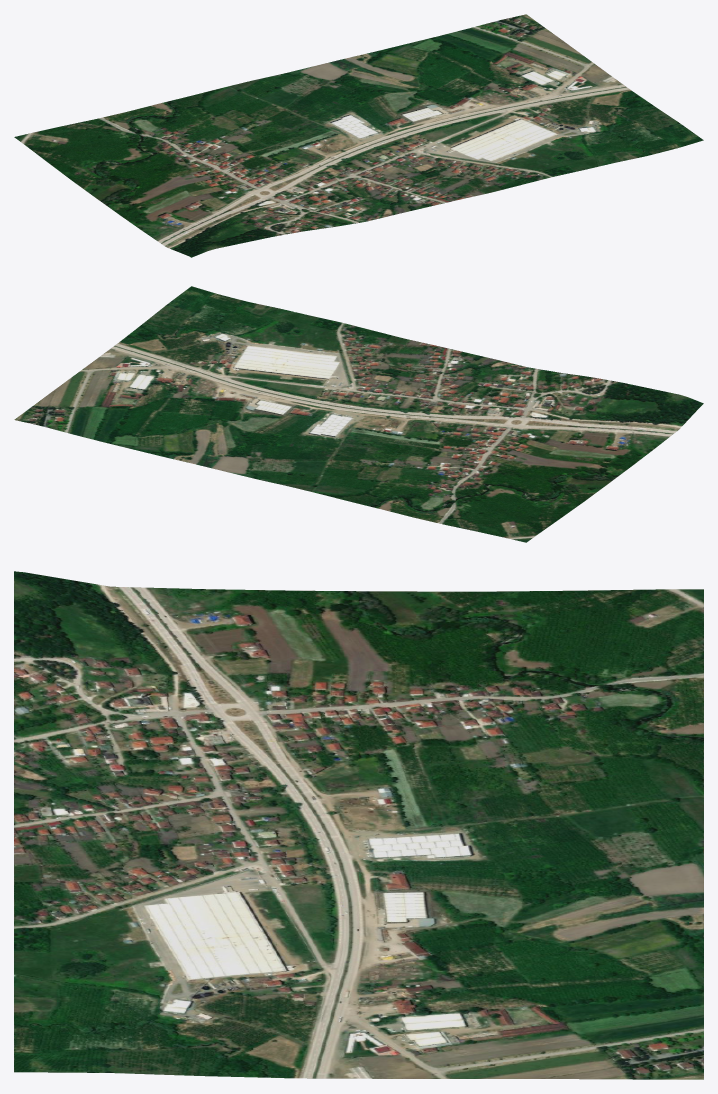
Rendered from soylu.dae.
3 renders of one model, top to bottom at view 1: azimuth 30°, elevation 25°; view 2: azimuth 150°, elevation 25°; view 3: azimuth 270°, elevation 25°, orthographic. The views are drawn at different scales.
Parts seen in each view (by area): view 1: EXPORT_BING_SAT_WM; view 2: EXPORT_BING_SAT_WM; view 3: EXPORT_BING_SAT_WM.
Boxes of the visible parts, x1,y1,x2,y2 form: EXPORT_BING_SAT_WM: (14, 14, 703, 257); EXPORT_BING_SAT_WM: (14, 286, 703, 542); EXPORT_BING_SAT_WM: (14, 571, 703, 1079).
Bounding box in the file's own units: 1529 × 917 × 43.46.
Materials: 1 (1 with a texture image).
